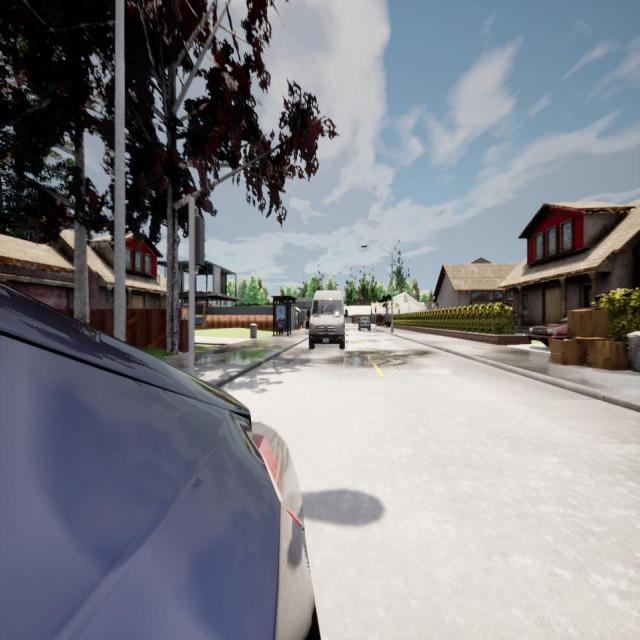Vehicle: (0, 287, 321, 640), (307, 290, 348, 350), (527, 316, 568, 348), (358, 316, 372, 331)
traffic_light: (194, 215, 205, 269), (375, 306, 376, 312)
